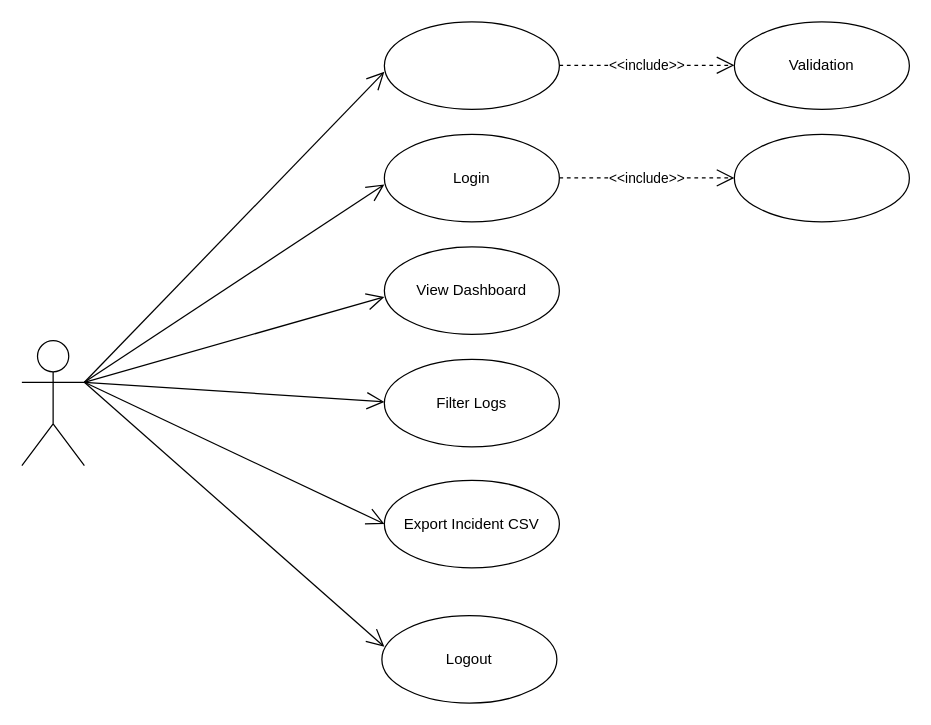
This 931x725 diagram has some shape labels left out. Each missing label, with the box of its shape:
Analyst: (21, 339, 84, 466)
Authentication: (733, 133, 909, 222)
Registration: (383, 21, 559, 109)
